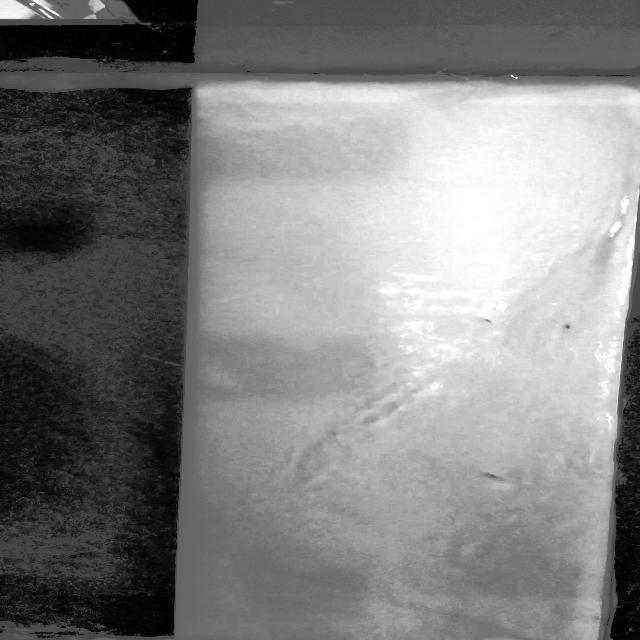shrimp: (546, 316, 590, 343), (466, 472, 508, 486)
